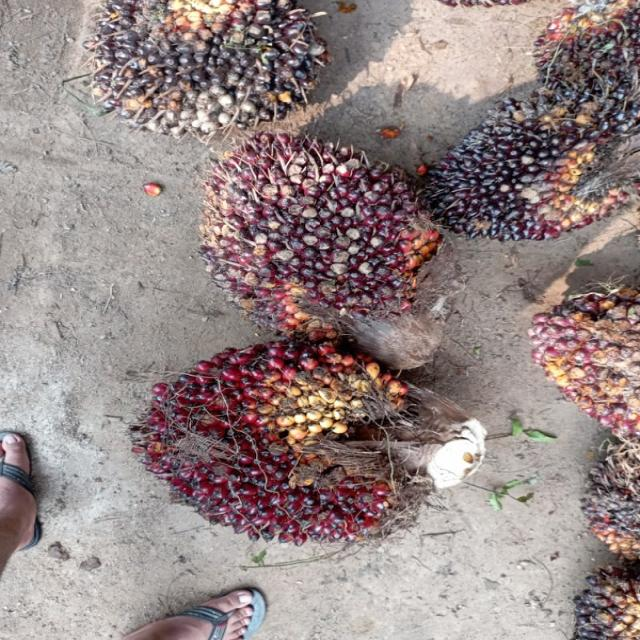fraksi 1: (132, 323, 525, 594)
